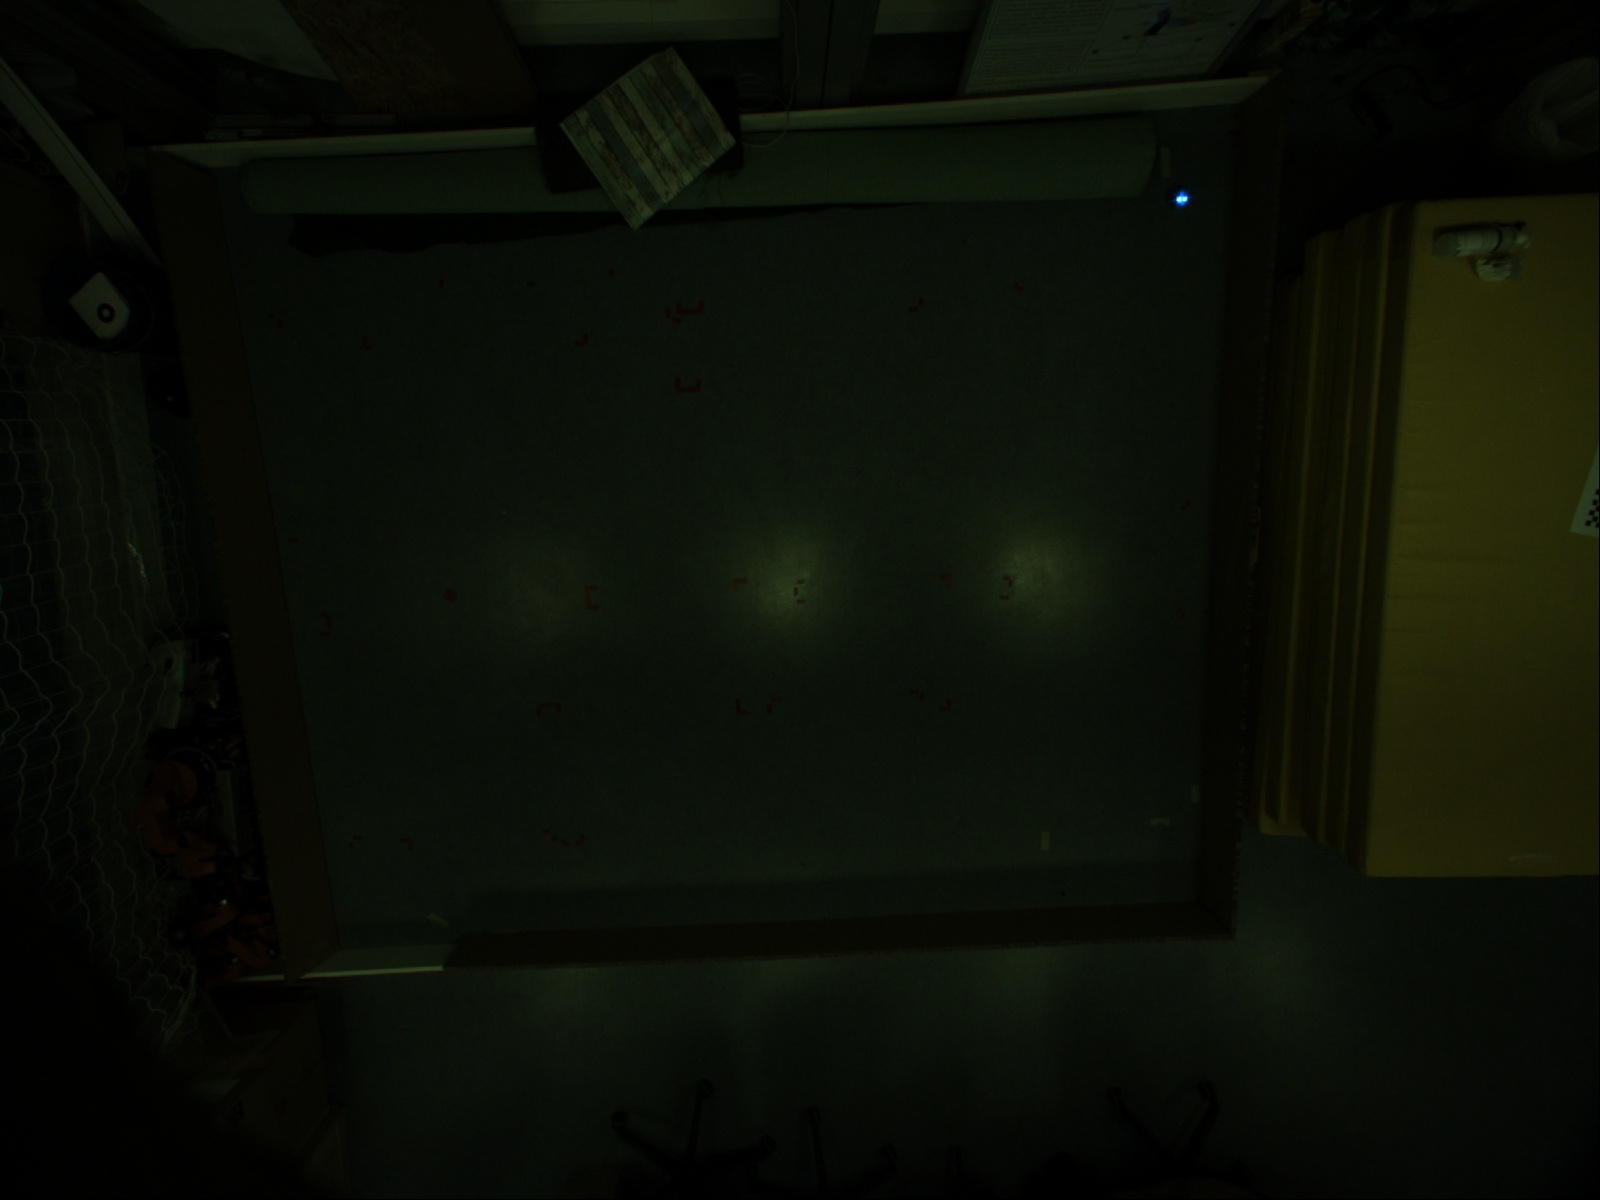sphero: (1170, 187, 1193, 211)
